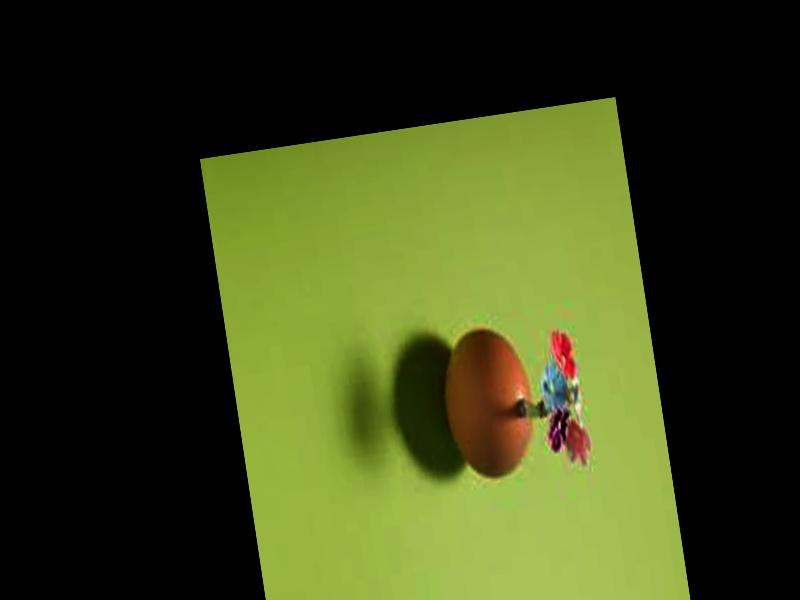Eggs: (434, 325, 541, 483)
